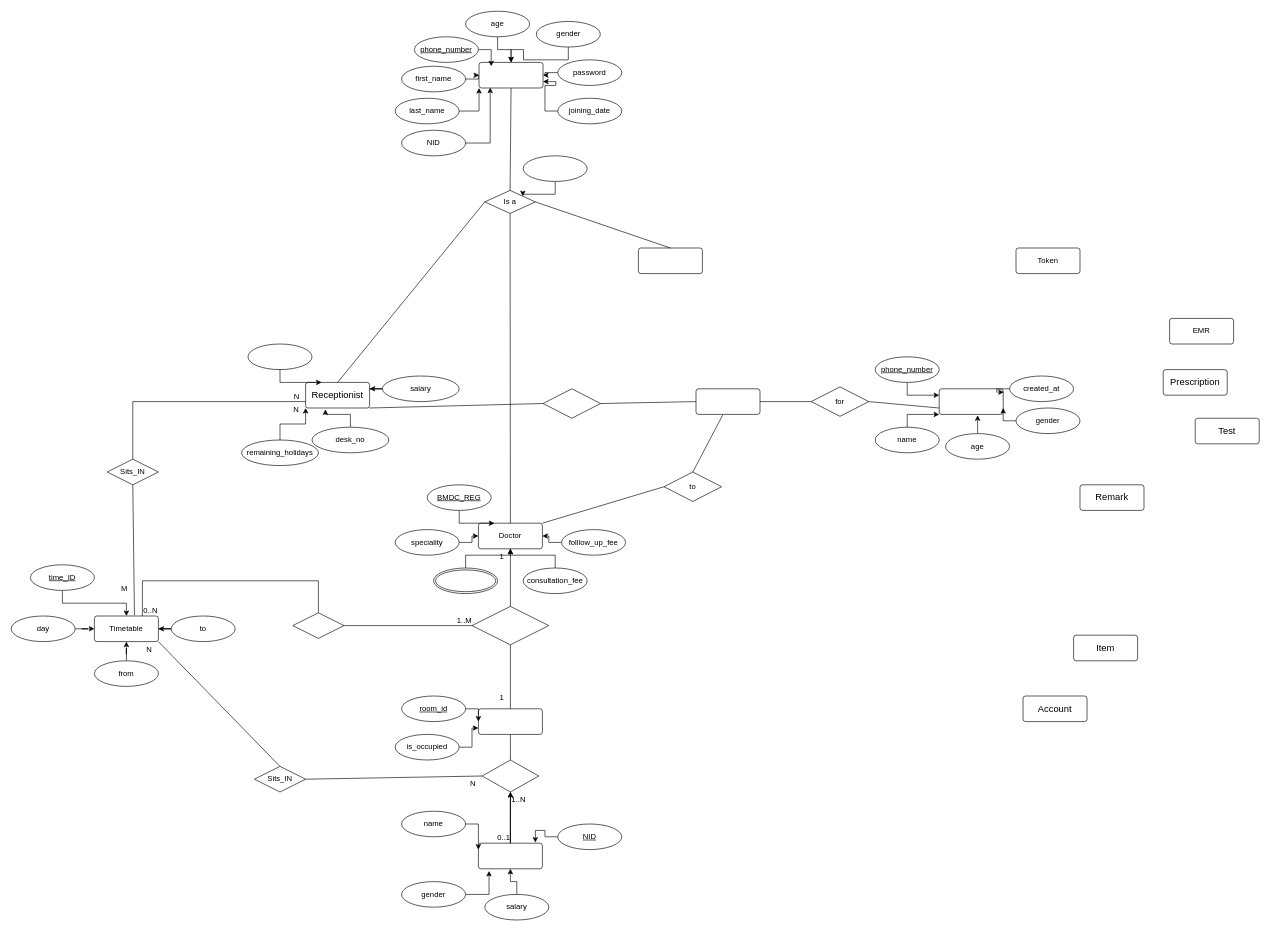
Image size: 1270x931. Some labels were removed from this diagram. The centre of each missing label's shape, as x and y in pixels:
"Appoinment" goes at (727,401).
"creates" goes at (571,403).
"degree" goes at (465,580).
"has" goes at (510,775).
"IN" goes at (318,625).
"Manager" goes at (670,260).
"Nurse" goes at (510,856).
"Patient" goes at (971,401).
"R_ID" goes at (279,356).
"Room" goes at (510,721).
"Sits" goes at (510,625).
"User" goes at (510,75).
"user_type" goes at (555,168).
